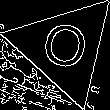O_S: (37, 17, 92, 78)
